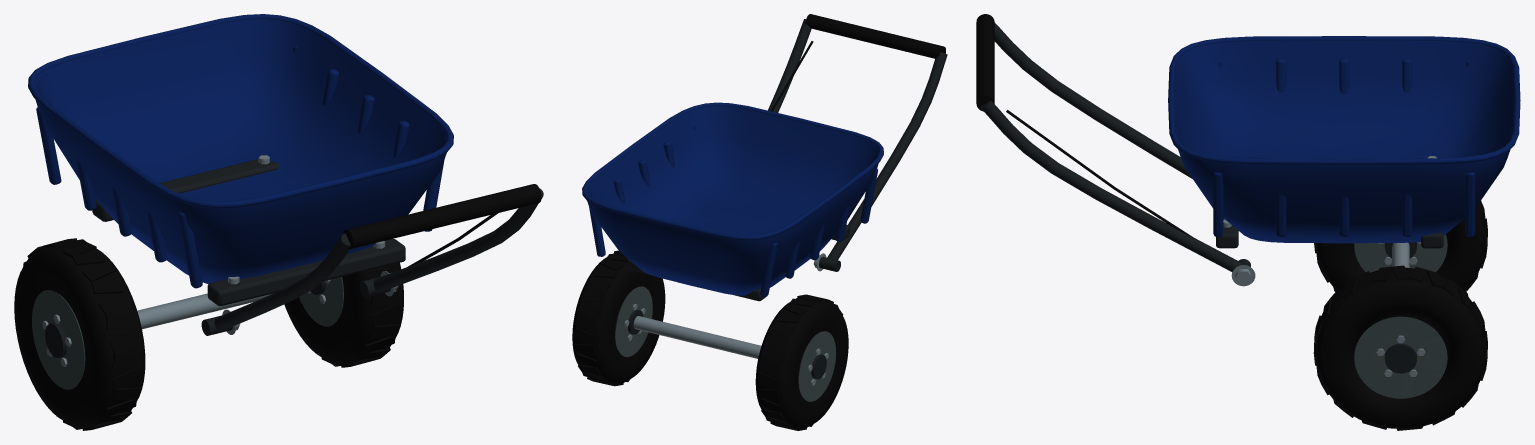
The model's file is PolyCart.gltf.
3 renders of one model, left to right at view 1: azimuth 30°, elevation 25°; view 2: azimuth 150°, elevation 25°; view 3: azimuth 270°, elevation 25°, orthographic. The views are drawn at different scales.
Visible parts, largest first — view 1: PolyCart__Body, PolyCart__Wheel_-1, PolyCart; view 2: PolyCart__Body, PolyCart__Wheel_-1, PolyCart; view 3: PolyCart__Body, PolyCart, PolyCart__Wheel_-1.
Boxes of the visible parts, <box> form: PolyCart__Body: <box>28,14,543,335</box>; PolyCart__Wheel_-1: <box>14,238,145,430</box>; PolyCart: <box>284,262,403,367</box>; PolyCart__Body: <box>582,14,947,358</box>; PolyCart__Wheel_-1: <box>755,294,848,430</box>; PolyCart: <box>572,250,665,386</box>; PolyCart__Body: <box>976,14,1520,286</box>; PolyCart: <box>1313,265,1487,430</box>; PolyCart__Wheel_-1: <box>1314,201,1487,291</box>.
Size of the model in its own units: 0.7389 by 0.8007 by 1.26.
1 material, 1 textured.
